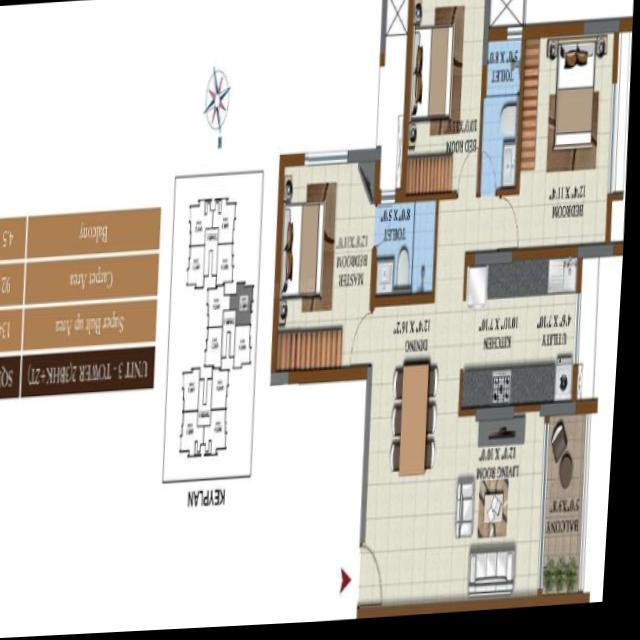Balcony-Sitout: (543, 405, 597, 612)
Bedroom: (515, 20, 621, 269), (403, 0, 490, 203)
Bedroom with Toilet: (275, 153, 442, 384)
Dining: (395, 360, 444, 484)
Kitchen: (463, 254, 586, 424)
Living: (459, 409, 556, 614)
Toilet: (372, 195, 444, 314), (479, 35, 526, 206)
